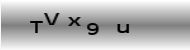9: (85, 23, 99, 36)
T: (28, 19, 44, 34)
V: (43, 12, 60, 26)
u: (116, 23, 131, 35)
x: (67, 16, 82, 27)
